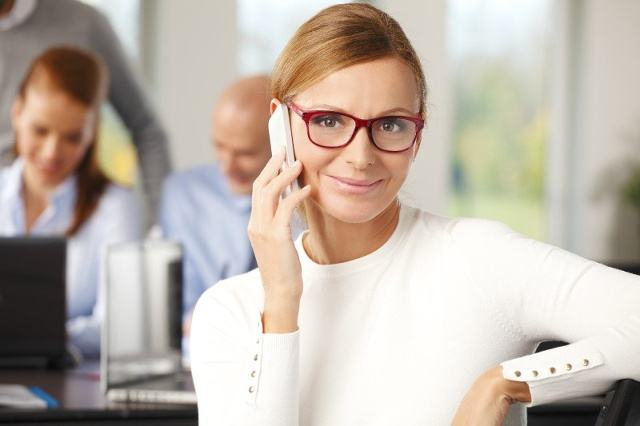calling: (240, 102, 314, 294)
